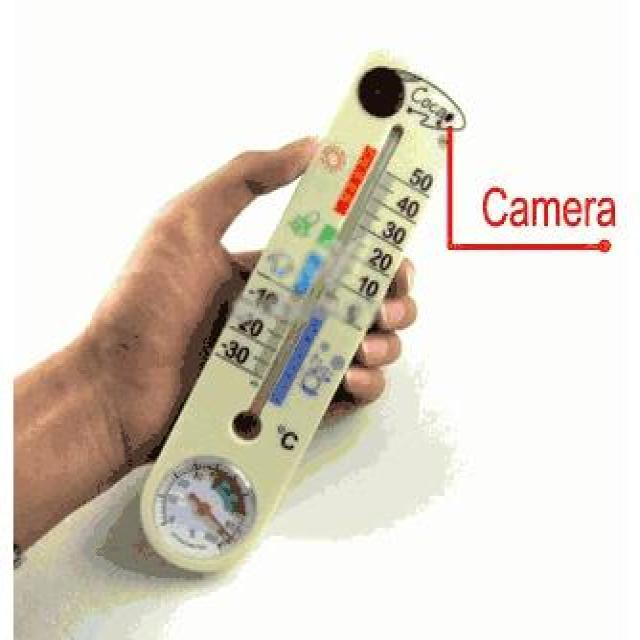hidden camera: (436, 100, 462, 133)
